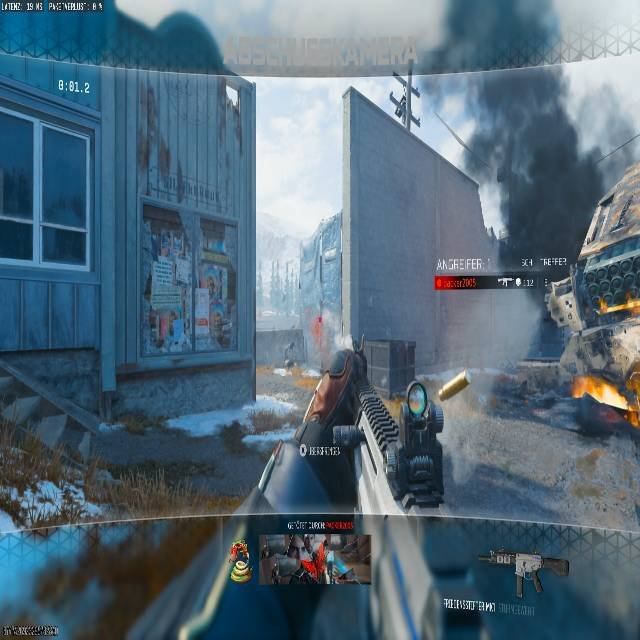head: (328, 348, 367, 383)
